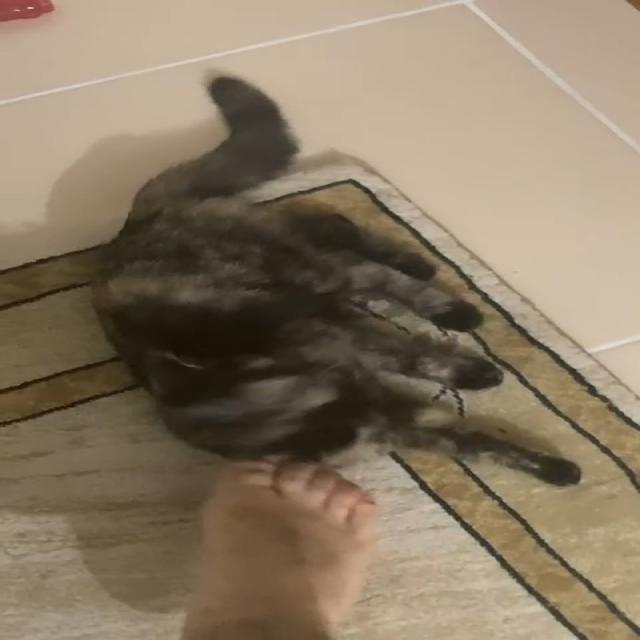authorized: (87, 71, 582, 489)
